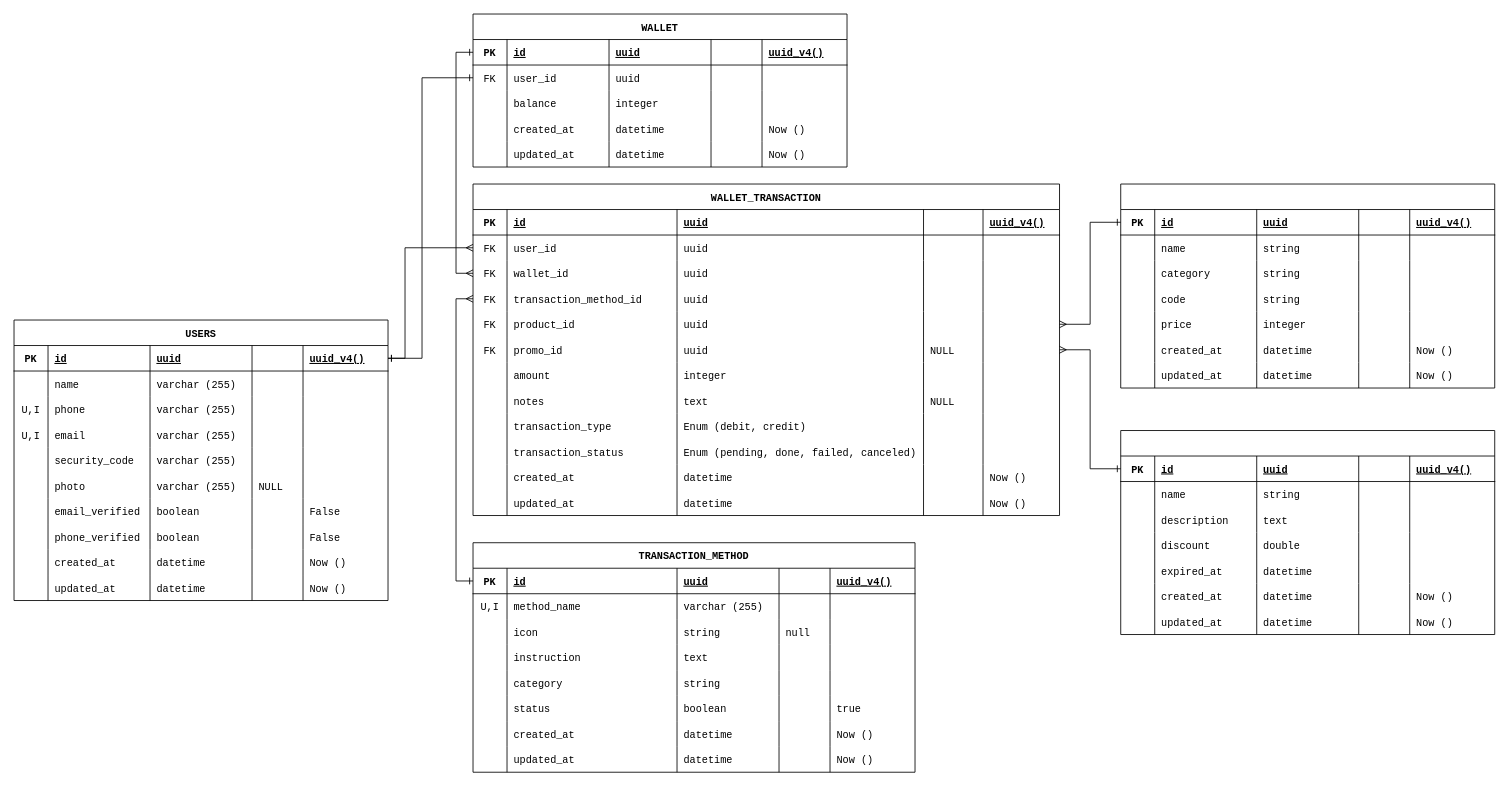
Some shapes in this 1509 by 786 pixel diagram are drawn without their labels. The box of each missing label's shape, as (x1, y1, x2, y2) in pixels:
PRODUCTS: (1120, 183, 1495, 388)
PROMOS: (1120, 430, 1495, 635)
